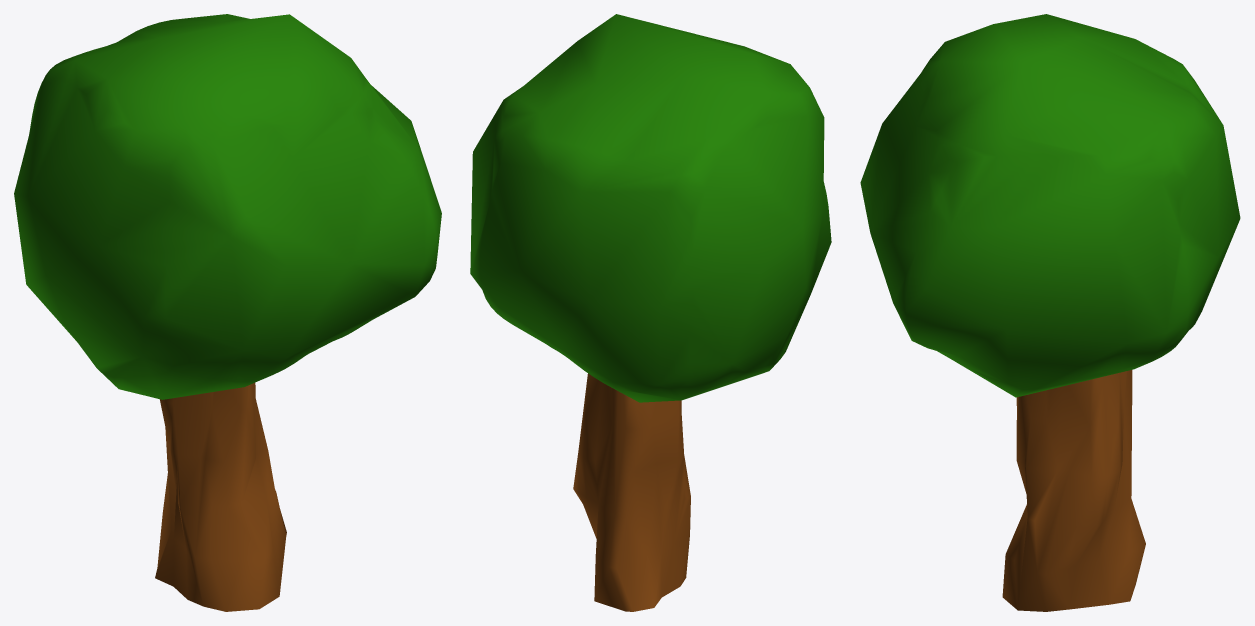
File: Tree2.fbx
3 renders of one model, left to right at view 1: azimuth 30°, elevation 25°; view 2: azimuth 150°, elevation 25°; view 3: azimuth 270°, elevation 25°, orthographic. The views are drawn at different scales.
Bounding box in the file's own units: 48.86 × 77.95 × 48.55.
